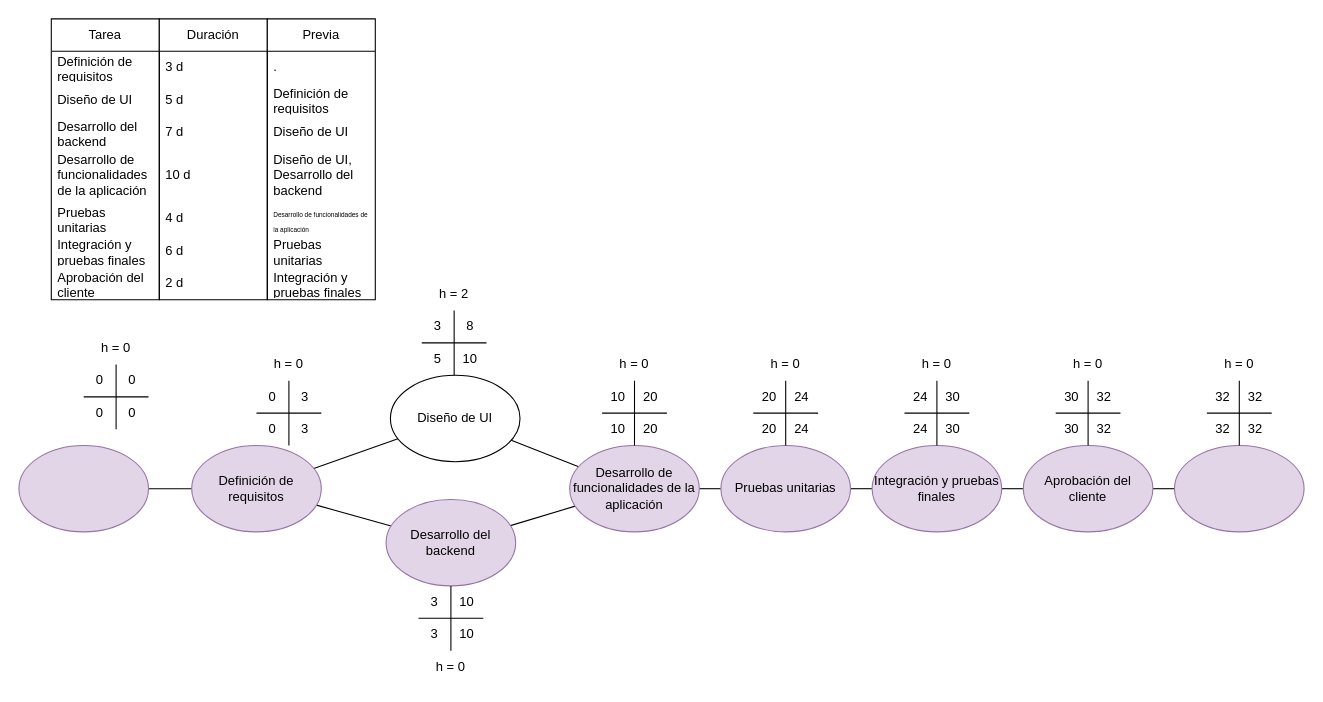
The diagram is 1323 pixels wide and 702 high, and some of its shapes have lost their labels. Here are the shapes that lost their labels. From the top down, the centre of each, then its label:
the point at 83,488: Inicio
the point at 1238,488: Fin
